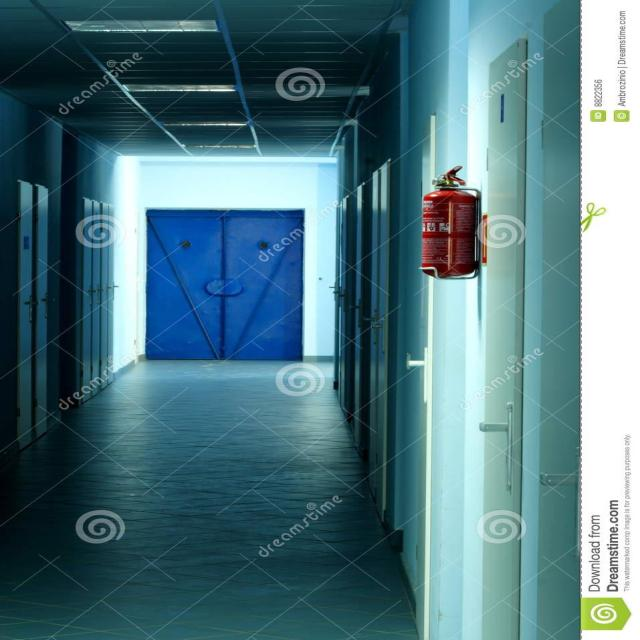fire_extinguisher: (410, 160, 491, 285)
